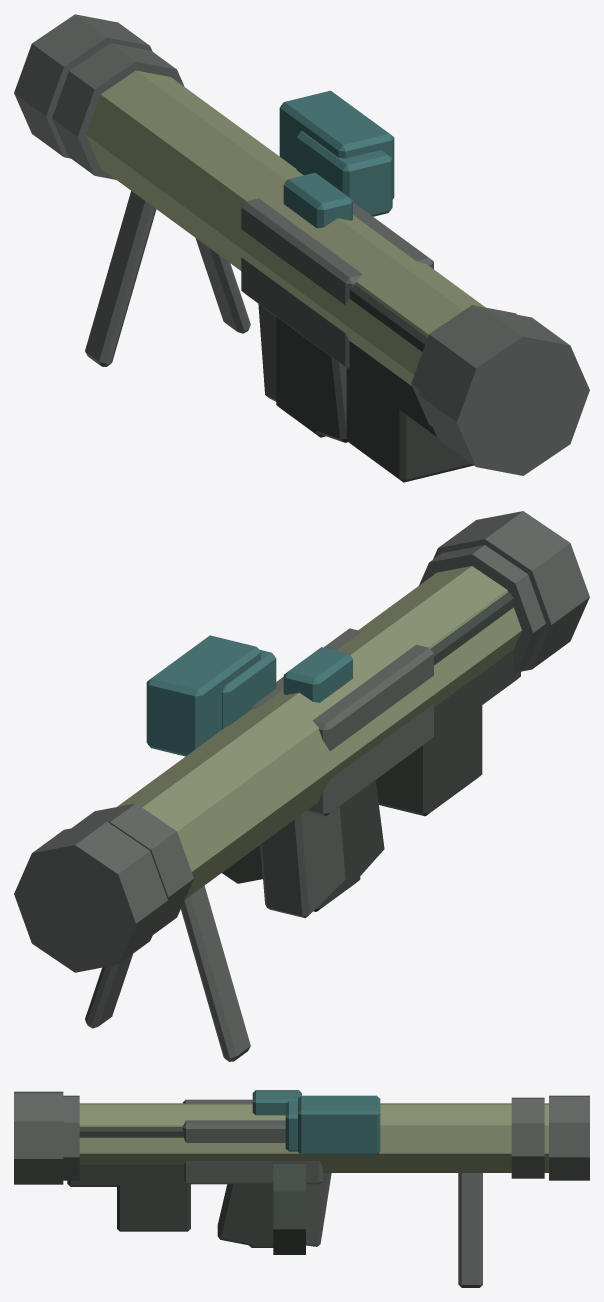
Rendered from soldier-weapons.glb.
3 views of the same model, one above another, from view 1: azimuth 30°, elevation 25°; view 2: azimuth 150°, elevation 25°; view 3: azimuth 270°, elevation 25° (orthographic). The views are drawn at different scales.
Parts seen in each view (by area): view 1: Weapon_AA_TEAM, Weapon_MG, Weapon_AT, Weapon_RIFLE; view 2: Weapon_AA_TEAM, Weapon_MG, Weapon_AT, Weapon_RIFLE; view 3: Weapon_AA_TEAM, Weapon_MG, Weapon_AT, Weapon_RIFLE.
Boxes of the visible parts, x1,y1,x2,y2 form: Weapon_AA_TEAM: [14, 14, 589, 482]; Weapon_MG: [85, 191, 436, 442]; Weapon_AT: [52, 43, 516, 426]; Weapon_RIFLE: [258, 172, 352, 401]; Weapon_AA_TEAM: [14, 511, 589, 972]; Weapon_MG: [85, 592, 520, 1061]; Weapon_AT: [72, 545, 545, 934]; Weapon_RIFLE: [260, 647, 352, 918]; Weapon_AA_TEAM: [14, 1091, 589, 1247]; Weapon_MG: [67, 1099, 482, 1287]; Weapon_AT: [63, 1095, 544, 1190]; Weapon_RIFLE: [252, 1090, 331, 1246].
Bounding box in the file's own units: 0.3619 × 0.4931 × 1.4.
